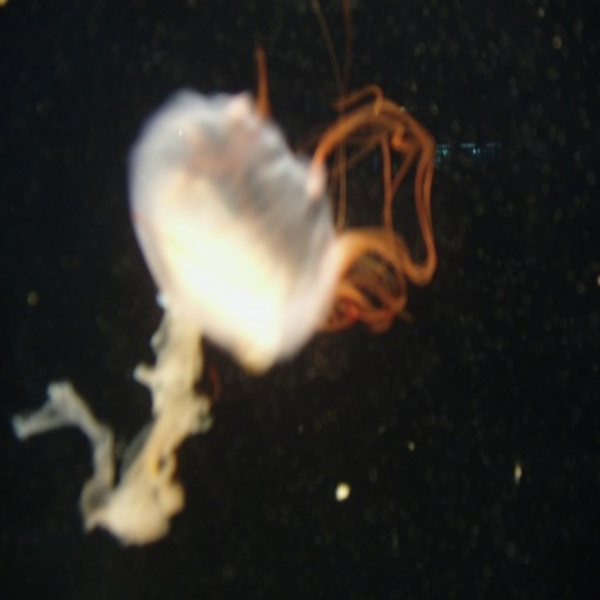Jellyfish: (81, 56, 454, 526)
